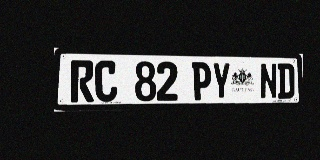2: (157, 61, 177, 101)
8: (135, 61, 156, 101)
C: (95, 60, 117, 102)
D: (278, 63, 294, 99)
N: (260, 63, 277, 99)
P: (192, 62, 211, 100)
R: (70, 60, 94, 102)
Y: (212, 62, 231, 100)
